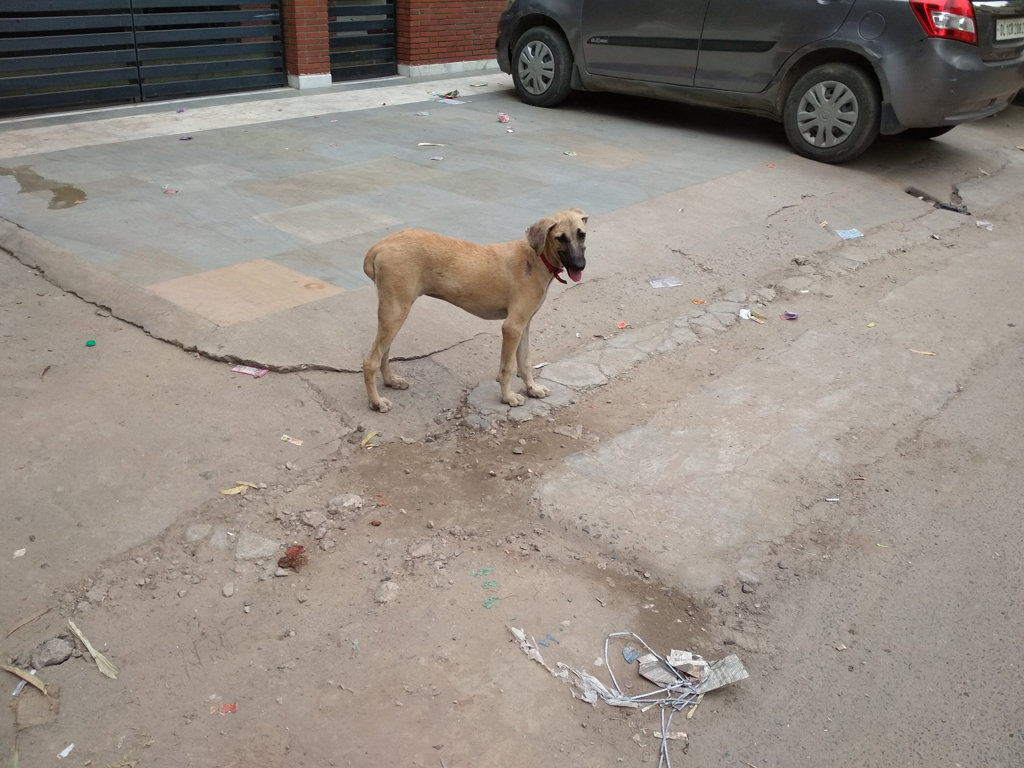dog: (363, 208, 588, 414)
